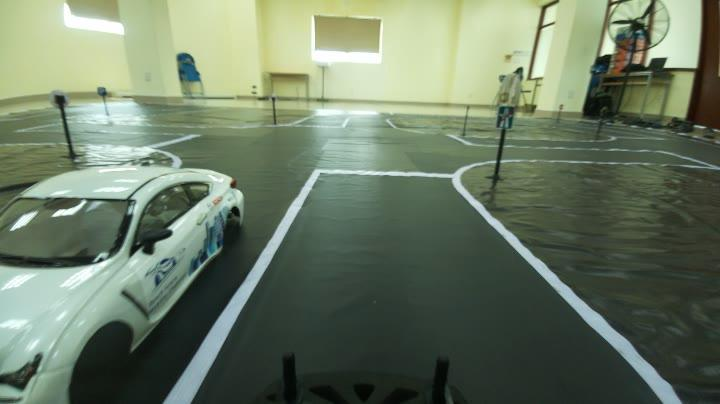car: (0, 114, 240, 396)
highway_exit: (492, 100, 522, 132)
